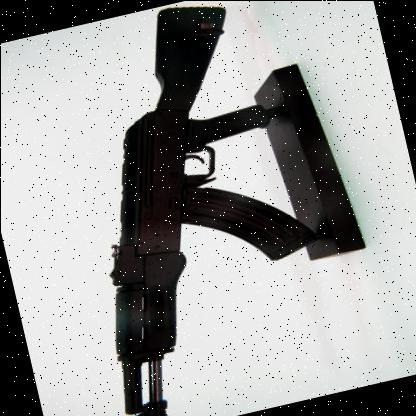rifle: (6, 0, 365, 416)
